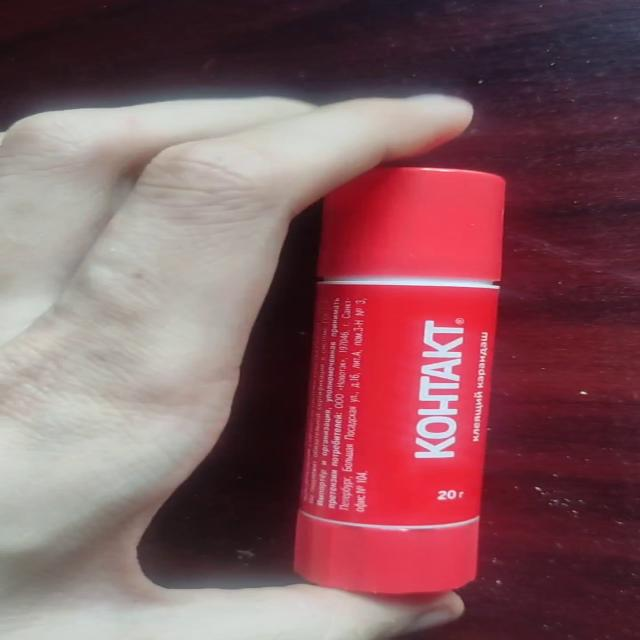glue: (291, 165, 505, 595)
